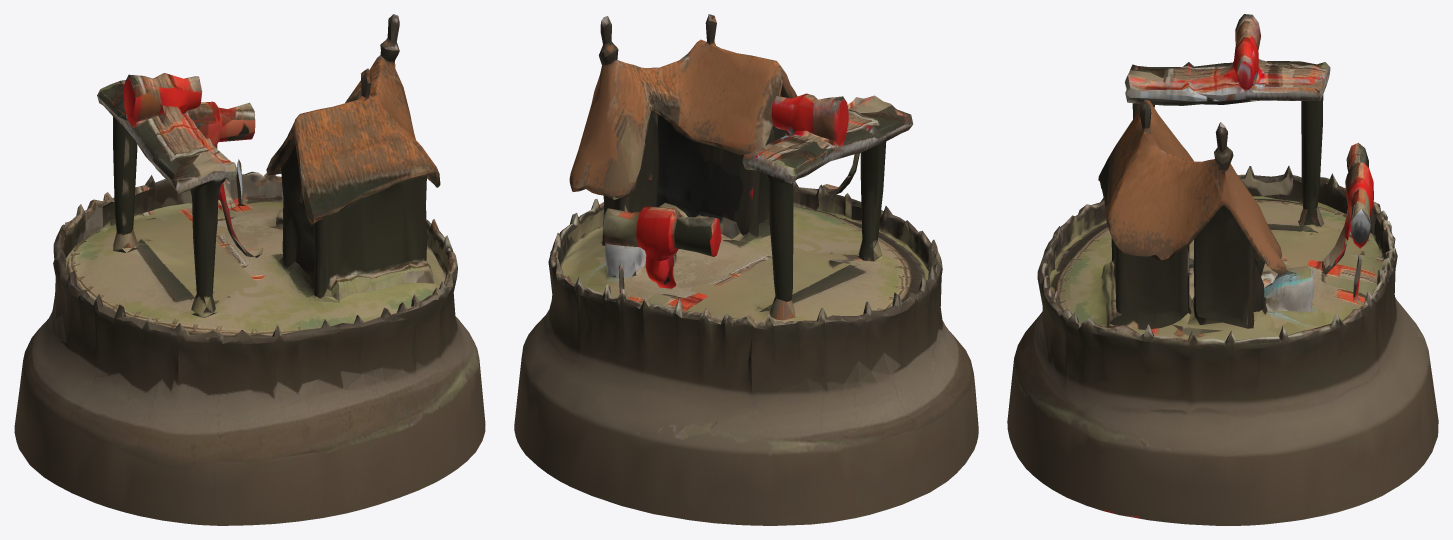
The model's file is guaranies_yvy_marane.glb.
3 views of the same model, side by side, from view 1: azimuth 30°, elevation 25°; view 2: azimuth 150°, elevation 25°; view 3: azimuth 270°, elevation 25° (orthographic). The views are drawn at different scales.
Visible parts, largest first — view 1: geometry_0; view 2: geometry_0; view 3: geometry_0.
Part boxes in pixels (x1,y1,x2,y2): geometry_0: [14, 14, 485, 525]; geometry_0: [514, 14, 978, 525]; geometry_0: [1007, 14, 1438, 525].
Size of the model in its own units: 3.4 by 3.04 by 3.17.
1 material, 1 textured.
